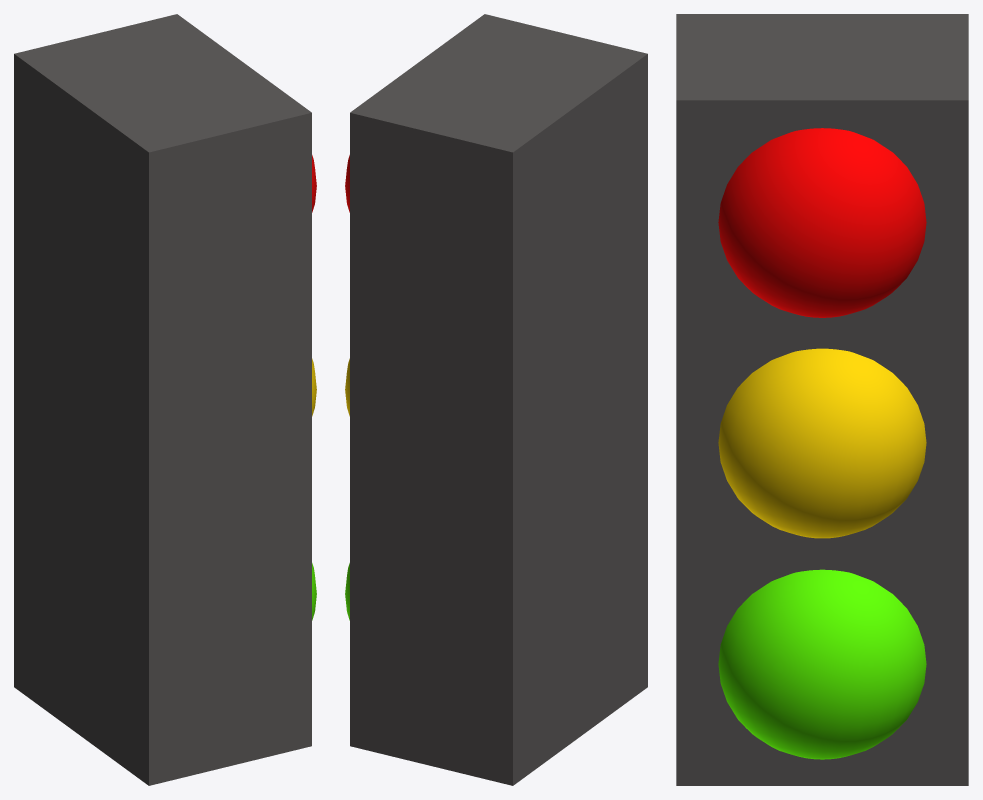
File: kirmizisariyesil.dae
The picture shows the model from 3 angles, left to right: view 1: azimuth 30°, elevation 25°; view 2: azimuth 150°, elevation 25°; view 3: azimuth 270°, elevation 25°; orthographic projection. The views are drawn at different scales.
Visible parts, largest first — view 1: Cube; view 2: Cube; view 3: Cube, Sphere.001, Sphere, Sphere.002.
Boxes of the visible parts, bbox=[...] form: Cube: bbox=[14, 14, 311, 785]; Cube: bbox=[350, 14, 647, 785]; Cube: bbox=[676, 14, 968, 785]; Sphere.001: bbox=[718, 348, 926, 538]; Sphere: bbox=[718, 569, 926, 759]; Sphere.002: bbox=[718, 128, 926, 317].
Bounding box in the file's own units: 2.71 × 2.86 × 7.42.
